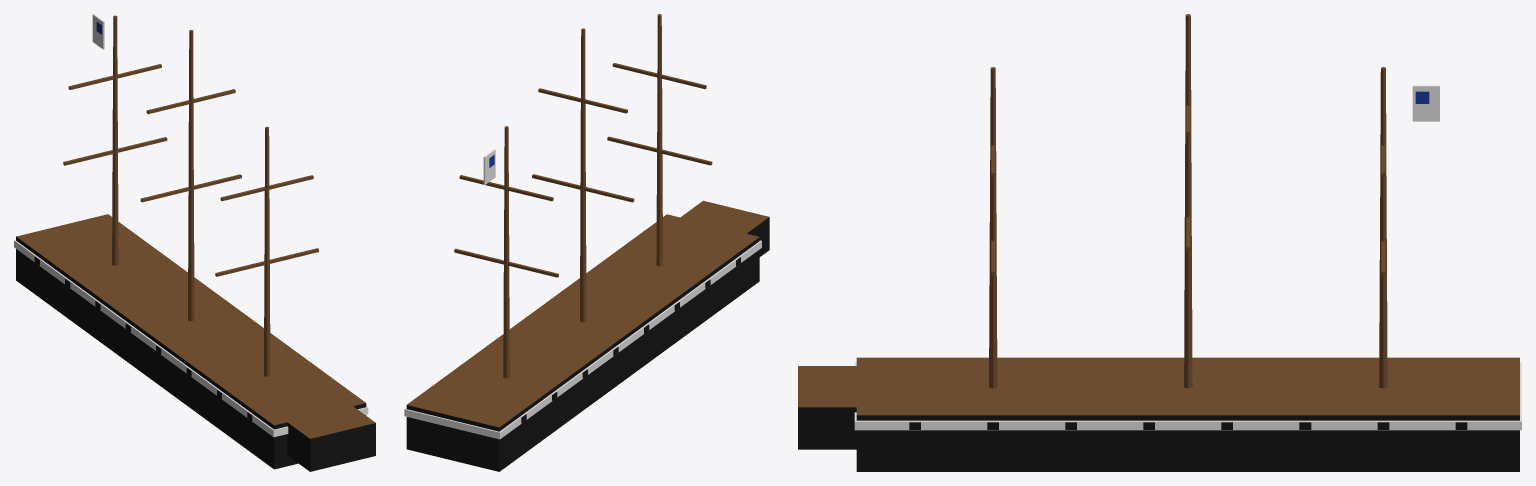
File: corbeta_esmeralda.obj
The picture shows the model from 3 angles, left to right: view 1: azimuth 30°, elevation 25°; view 2: azimuth 150°, elevation 25°; view 3: azimuth 270°, elevation 25°; orthographic projection. The views are drawn at different scales.
Parts seen in each view (by area): view 1: corbeta_esmeralda; view 2: corbeta_esmeralda; view 3: corbeta_esmeralda.
Part boxes in pixels (<box>): corbeta_esmeralda: <box>14,14,375,471</box>; corbeta_esmeralda: <box>404,14,769,471</box>; corbeta_esmeralda: <box>798,14,1521,471</box>.
Bounding box in the file's own units: 7.78 × 24.2 × 37.1.
